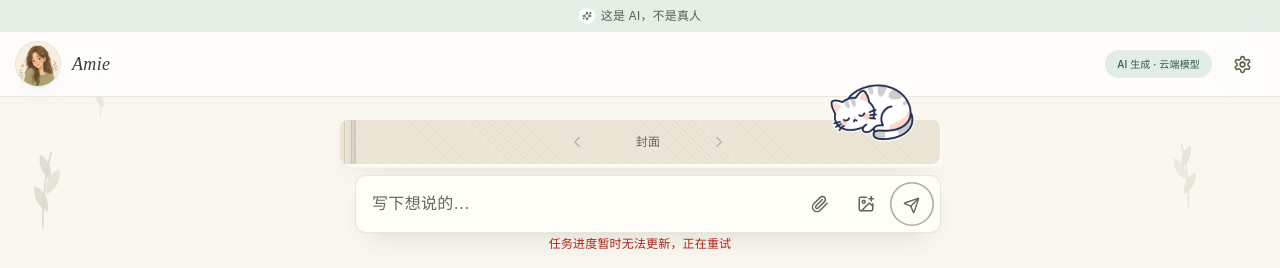
ChatPage › explains send failure {"message":"unknown failure"} without losing the draft
Type "这条会失败" into the text box named "聊天消息". click: x=584, y=204
box: [372,182,796,226]
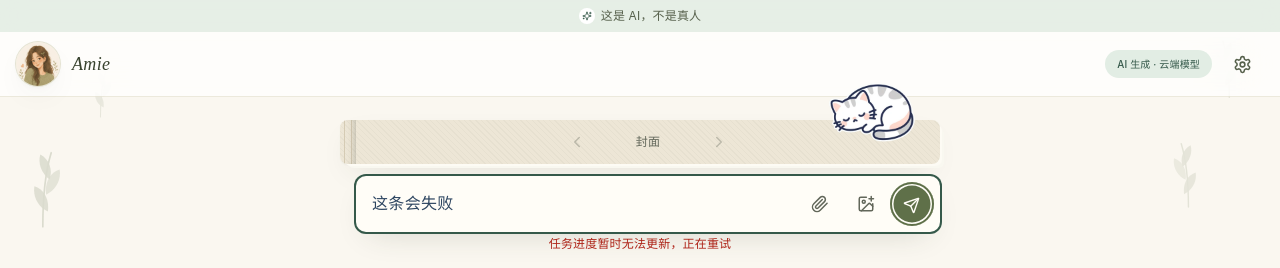
Click the button named "发送消息". click: x=912, y=204
box: [890,182,934,226]
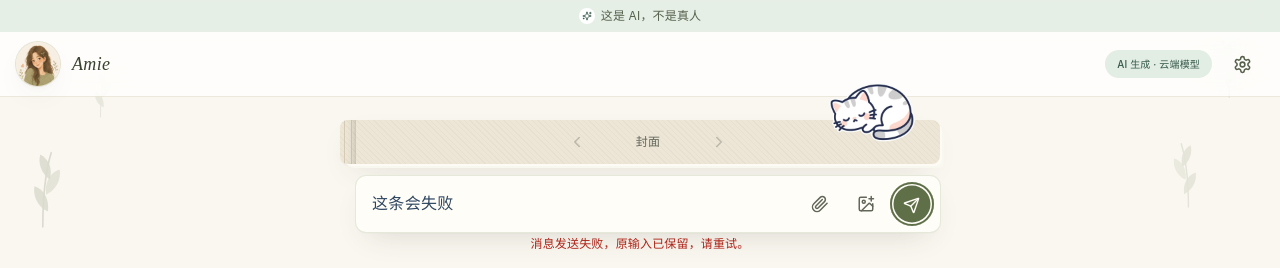
Result: the text "消息发送失败，原输入已保留，请重试。" is shown at [530,236,749,251]
